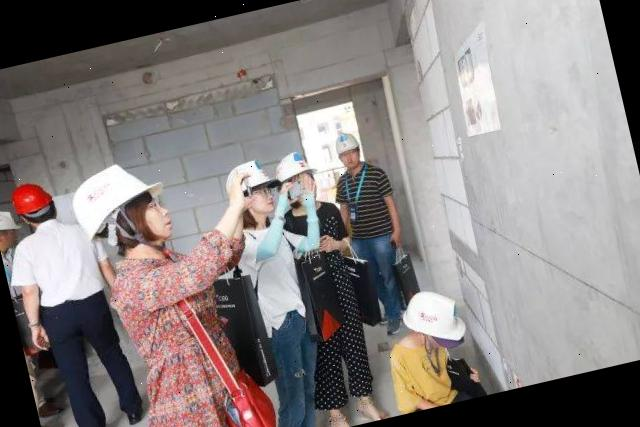helmet: (62, 154, 170, 232), (394, 276, 476, 360), (220, 151, 282, 203), (5, 177, 54, 217), (274, 144, 319, 186), (328, 127, 359, 160)
no_wear: (99, 245, 249, 427), (238, 218, 314, 336), (12, 220, 102, 316), (280, 200, 358, 302), (332, 162, 402, 244), (386, 340, 462, 412)
